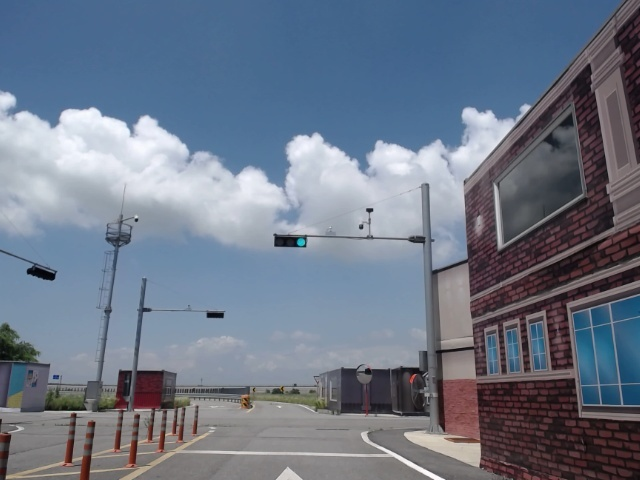green_3: (277, 237, 307, 247)
